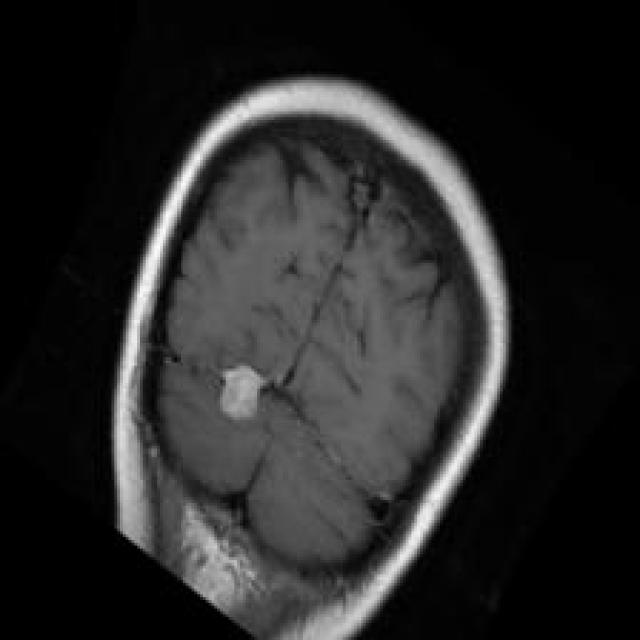meningioma_tumor: (205, 358, 277, 436)
